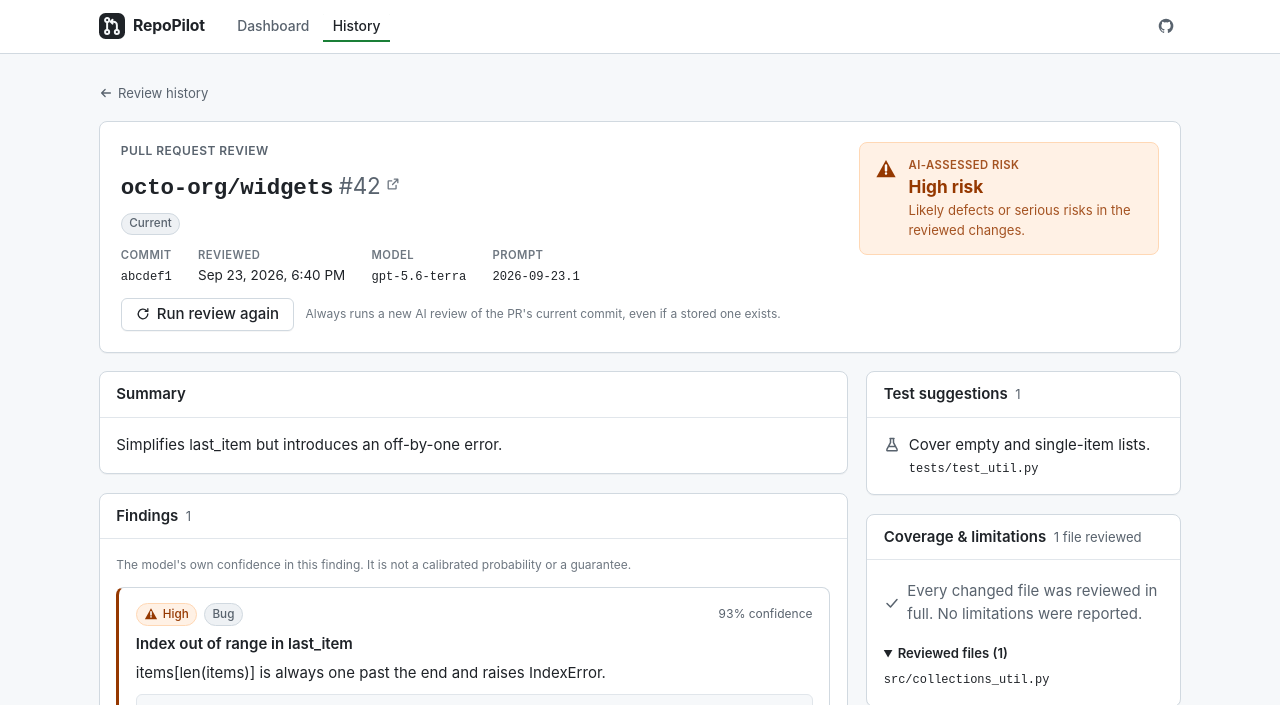
it: ReviewDetailPage › shows re-run failures without losing the current review
The image size is (1280, 705).
Click the button "Run review again". click: (208, 314)
box: [121, 298, 294, 331]
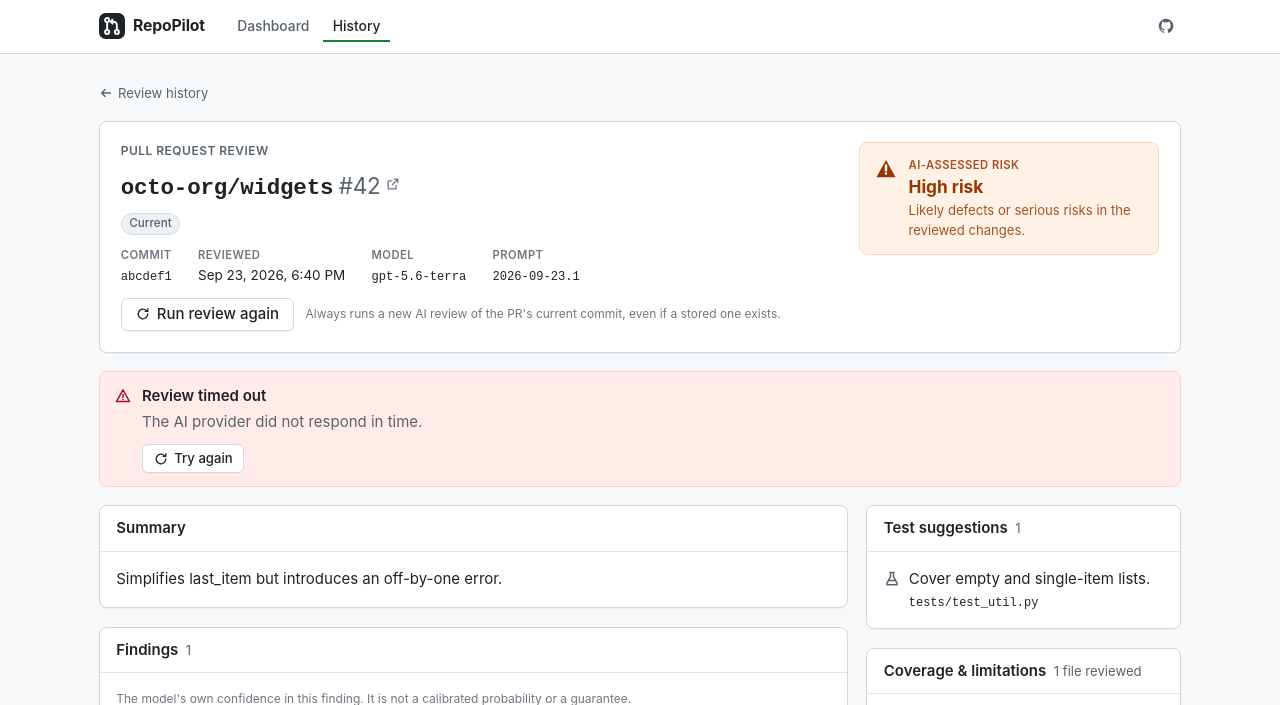
Expected: the text "High risk" is shown, [908, 176, 983, 197]
Now the message shows "Review timed out", box [142, 386, 266, 405]
